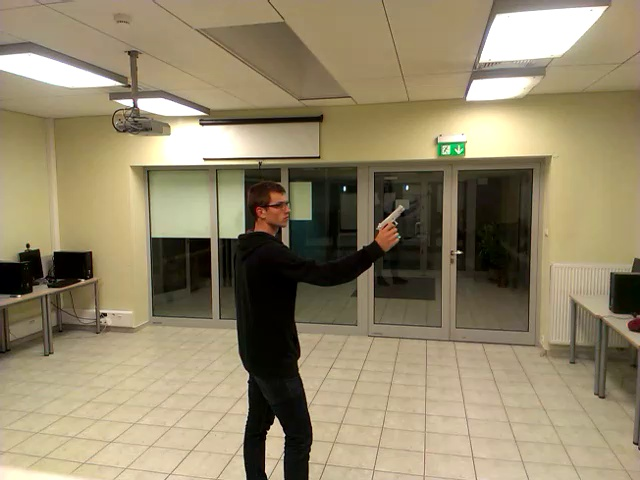gun: (368, 198, 416, 264)
